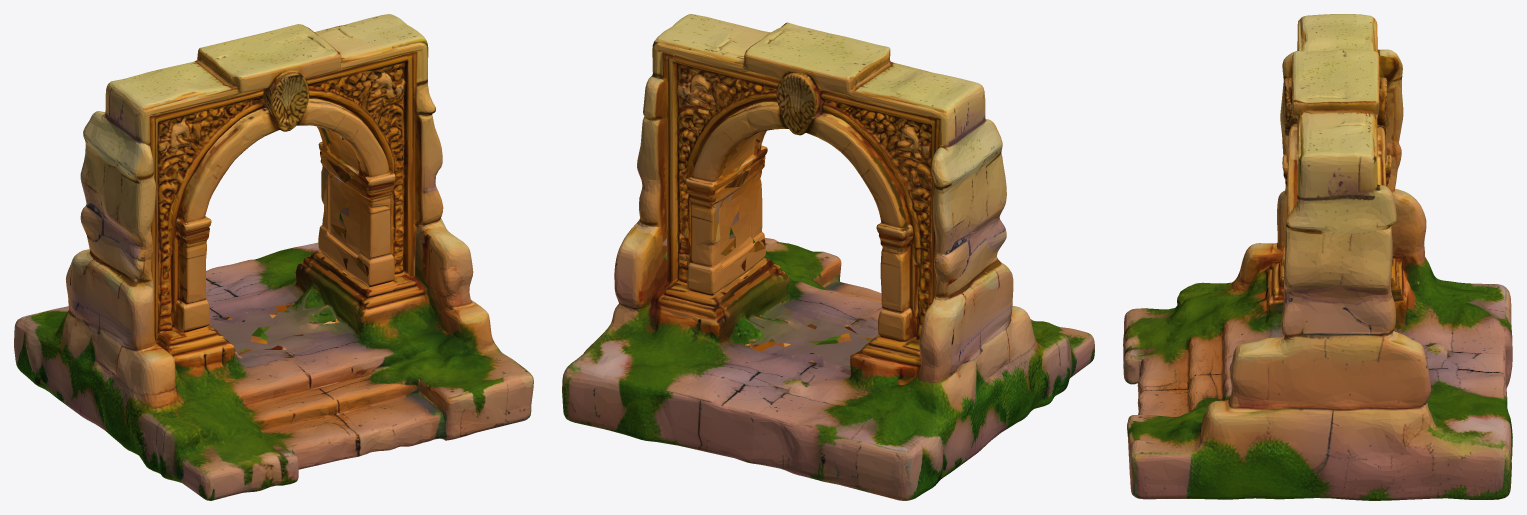
The model's file is carved-arch-keystone-optimized.glb.
3 renders of one model, left to right at view 1: azimuth 30°, elevation 25°; view 2: azimuth 150°, elevation 25°; view 3: azimuth 270°, elevation 25°, orthographic. The views are drawn at different scales.
Parts seen in each view (by area): view 1: 6242784a-4cdc-4792-b597-7bb35f93c7a2_texturing; view 2: 6242784a-4cdc-4792-b597-7bb35f93c7a2_texturing; view 3: 6242784a-4cdc-4792-b597-7bb35f93c7a2_texturing.
Boxes of the visible parts, x1,y1,x2,y2 form: 6242784a-4cdc-4792-b597-7bb35f93c7a2_texturing: [14, 14, 533, 500]; 6242784a-4cdc-4792-b597-7bb35f93c7a2_texturing: [562, 14, 1094, 500]; 6242784a-4cdc-4792-b597-7bb35f93c7a2_texturing: [1123, 14, 1512, 500].
Bounding box in the file's own units: 0.8 × 0.7557 × 0.7665.
1 material, 1 textured.
